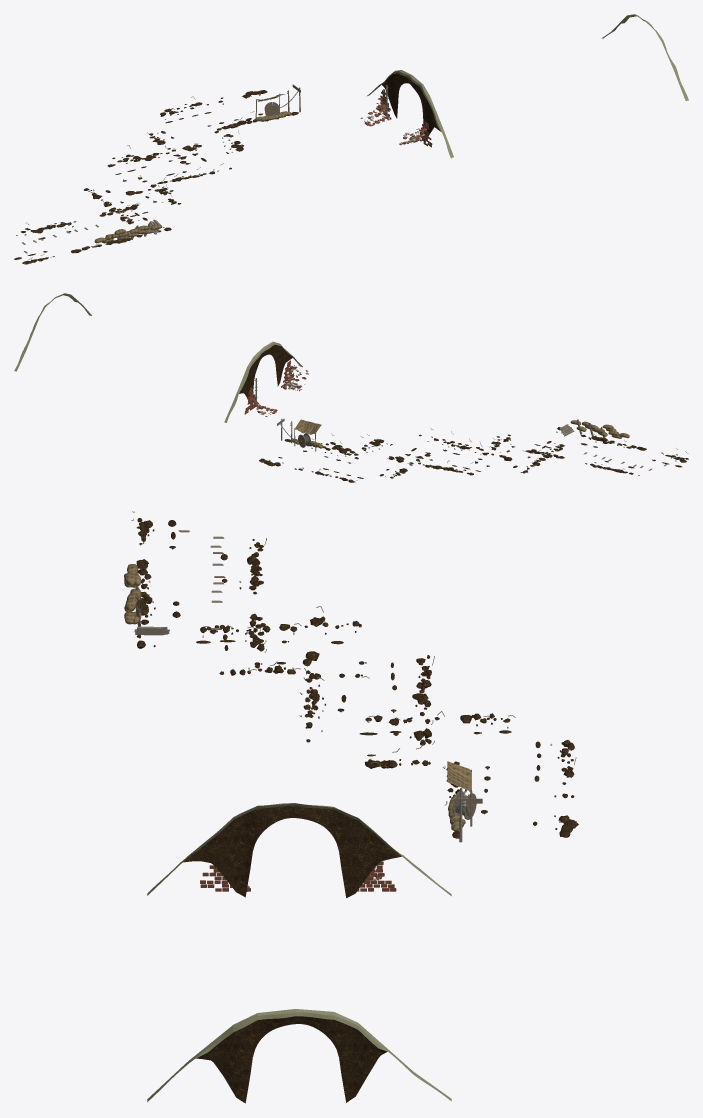
Rendered from TrenchDressing.fbx.
3 renders of one model, top to bottom at view 1: azimuth 30°, elevation 25°; view 2: azimuth 150°, elevation 25°; view 3: azimuth 270°, elevation 25°, orthographic. The views are drawn at different scales.
Visible parts, largest first — view 1: Start_bank_repairs, Turf_section_over_vault, Engineers_portal_masonry, Signal_party_workbench; view 2: Start_bank_repairs, Turf_section_over_vault, Engineers_portal_masonry, Signal_party_workbench; view 3: Turf_section_over_vault, Start_bank_repairs, Signal_party_workbench, Engineers_portal_masonry.
Boxes of the visible parts, x1=… form: Start_bank_repairs: x1=14, y1=90, x2=298, y2=264; Turf_section_over_vault: x1=367, y1=14, x2=688, y2=158; Engineers_portal_masonry: x1=360, y1=85, x2=432, y2=147; Signal_party_workbench: x1=255, y1=84, x2=300, y2=121; Start_bank_repairs: x1=259, y1=419, x2=688, y2=482; Turf_section_over_vault: x1=14, y1=293, x2=302, y2=422; Engineers_portal_masonry: x1=244, y1=360, x2=308, y2=416; Signal_party_workbench: x1=277, y1=418, x2=323, y2=451; Turf_section_over_vault: x1=147, y1=803, x2=451, y2=1103; Start_bank_repairs: x1=124, y1=511, x2=578, y2=838; Signal_party_workbench: x1=447, y1=761, x2=482, y2=842; Engineers_portal_masonry: x1=200, y1=861, x2=396, y2=891.
Bounding box in the file's own units: 57.75 × 4.55 × 19.01.
